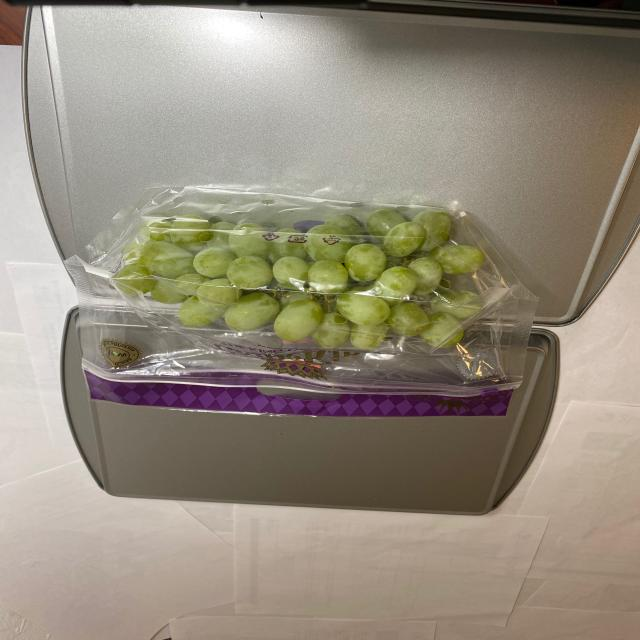grapes: (130, 197, 516, 349)
